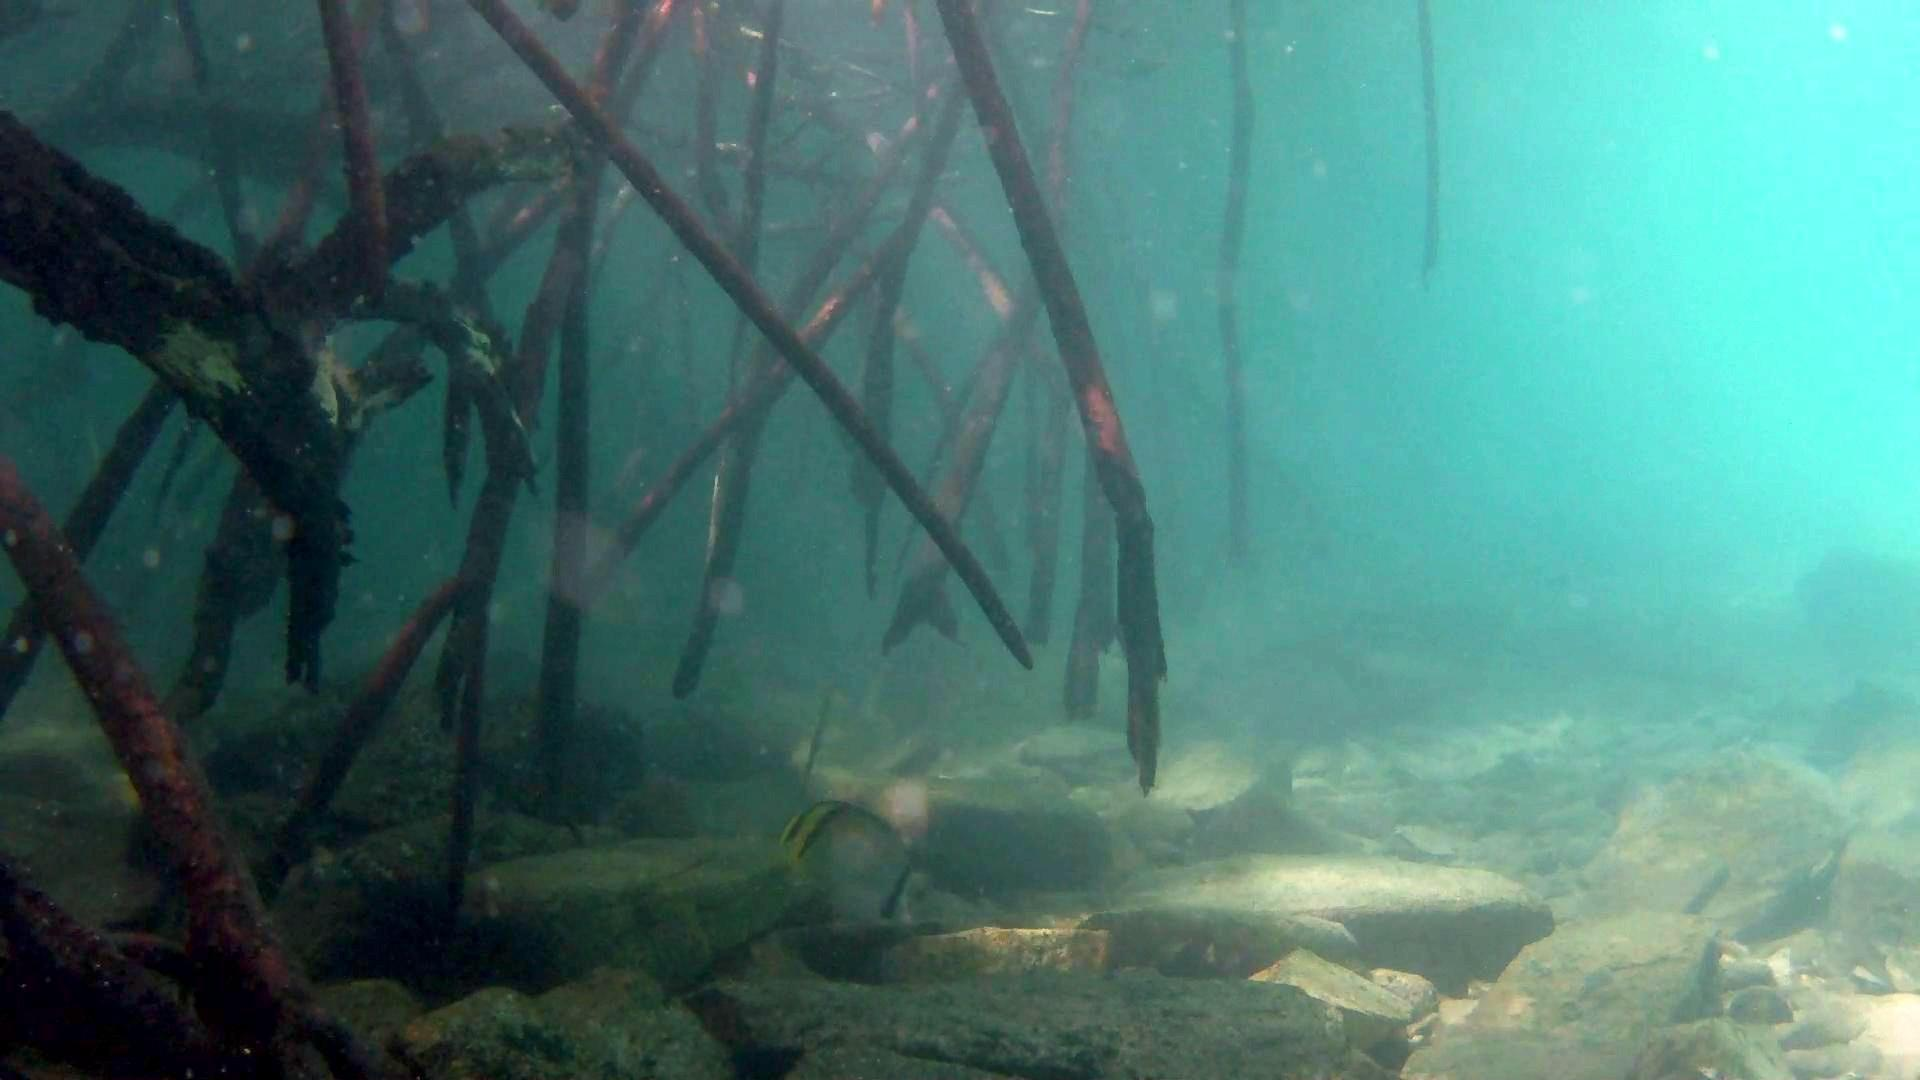chaetodon vagabundus: (773, 795, 922, 931)
